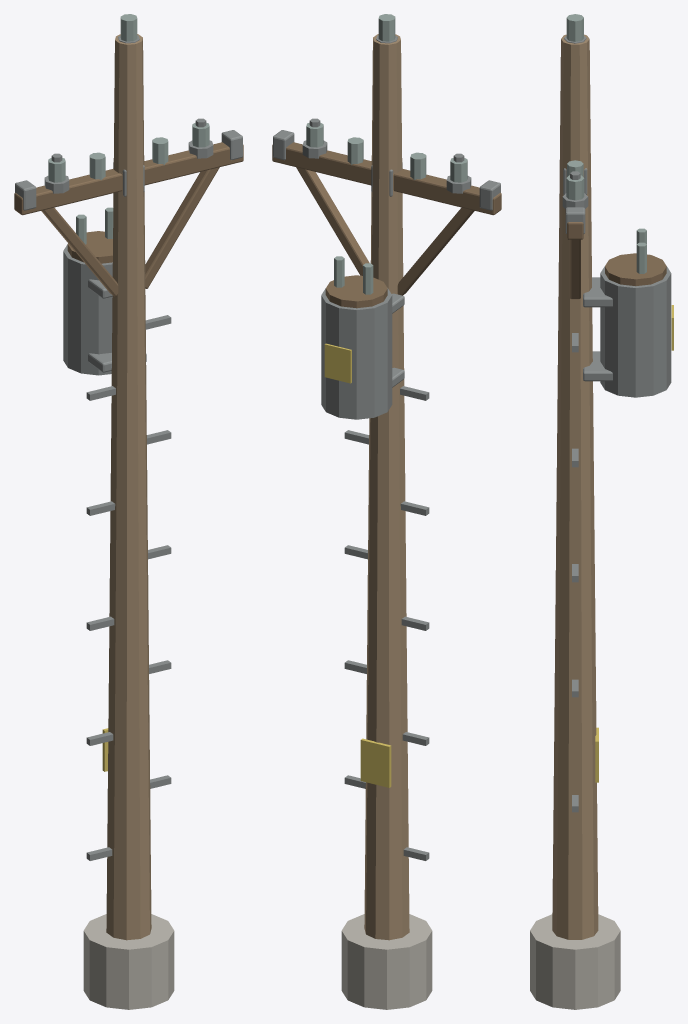
File: rv_utility_pole.gltf
The picture shows the model from 3 angles, left to right: view 1: azimuth 30°, elevation 25°; view 2: azimuth 150°, elevation 25°; view 3: azimuth 270°, elevation 25°; orthographic projection.
Visible parts, largest first — view 1: RV_UtilityPole; view 2: RV_UtilityPole; view 3: RV_UtilityPole.
Boxes of the visible parts, left/top/right/bottom form: RV_UtilityPole: left=14, top=14, right=243, bottom=1009; RV_UtilityPole: left=272, top=14, right=501, bottom=1009; RV_UtilityPole: left=530, top=14, right=673, bottom=1009.
Bounding box in the file's own units: 1.7 × 7.11 × 0.9525.
